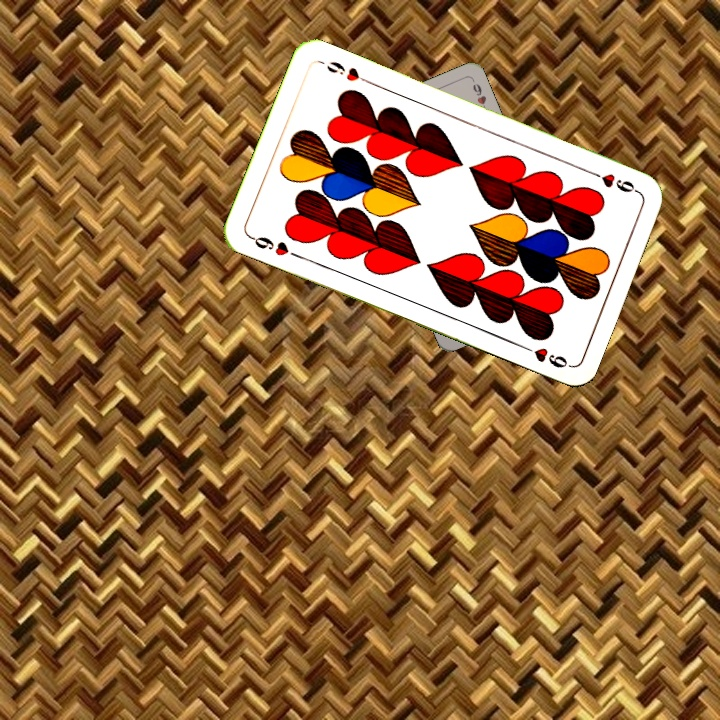H9: (584, 166, 641, 196), (246, 232, 302, 261)
